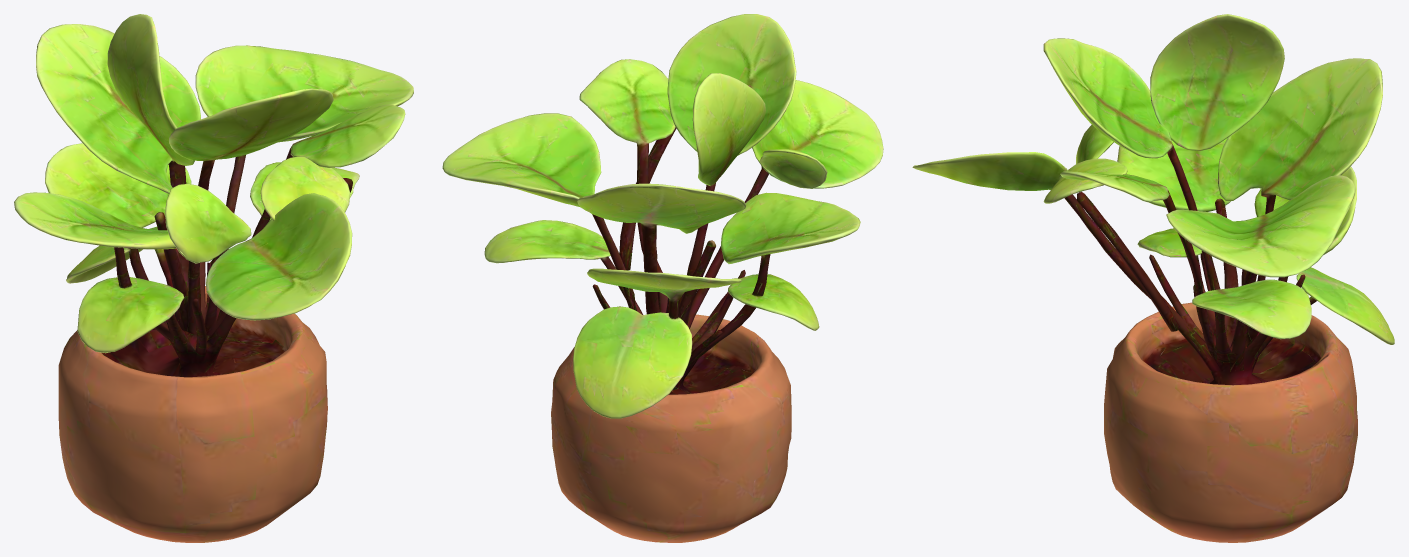
File: houseplant.glb
3 views of the same model, side by side, from view 1: azimuth 30°, elevation 25°; view 2: azimuth 150°, elevation 25°; view 3: azimuth 270°, elevation 25° (orthographic). The views are drawn at different scales.
Size of the model in its own units: 1.66 by 1.91 by 1.75.
1 material, 1 textured.
